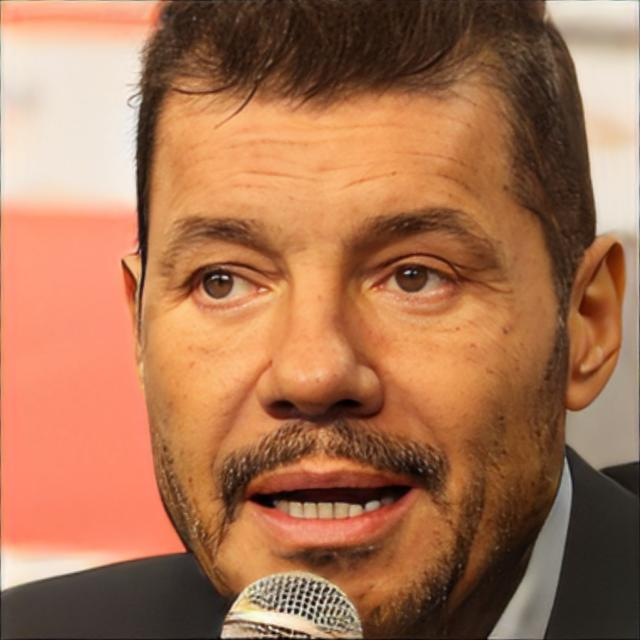surprise: (139, 57, 573, 640)
